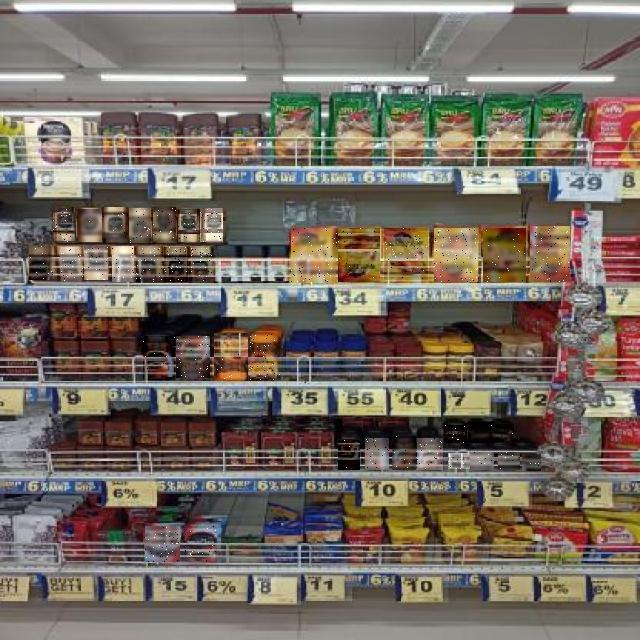Coffee: (292, 228, 338, 283), (434, 229, 478, 283), (483, 229, 526, 283), (384, 229, 428, 281), (338, 229, 380, 283), (530, 226, 570, 282), (214, 333, 248, 381), (176, 337, 210, 379), (249, 334, 280, 380), (143, 337, 175, 381), (145, 526, 180, 562), (184, 526, 216, 562), (136, 246, 162, 282), (103, 208, 129, 242), (164, 247, 188, 282), (417, 438, 443, 470), (30, 246, 54, 280), (84, 246, 108, 280), (188, 247, 212, 281), (392, 436, 416, 470), (53, 207, 76, 242), (153, 207, 176, 242), (78, 209, 102, 242), (112, 246, 134, 282), (200, 209, 223, 243), (60, 247, 83, 281), (129, 208, 151, 243), (365, 438, 389, 470), (178, 209, 200, 242), (338, 439, 360, 470), (468, 422, 492, 443), (470, 452, 496, 470), (491, 424, 514, 442), (444, 425, 467, 443), (498, 453, 520, 471), (448, 454, 470, 472), (522, 454, 541, 471)
